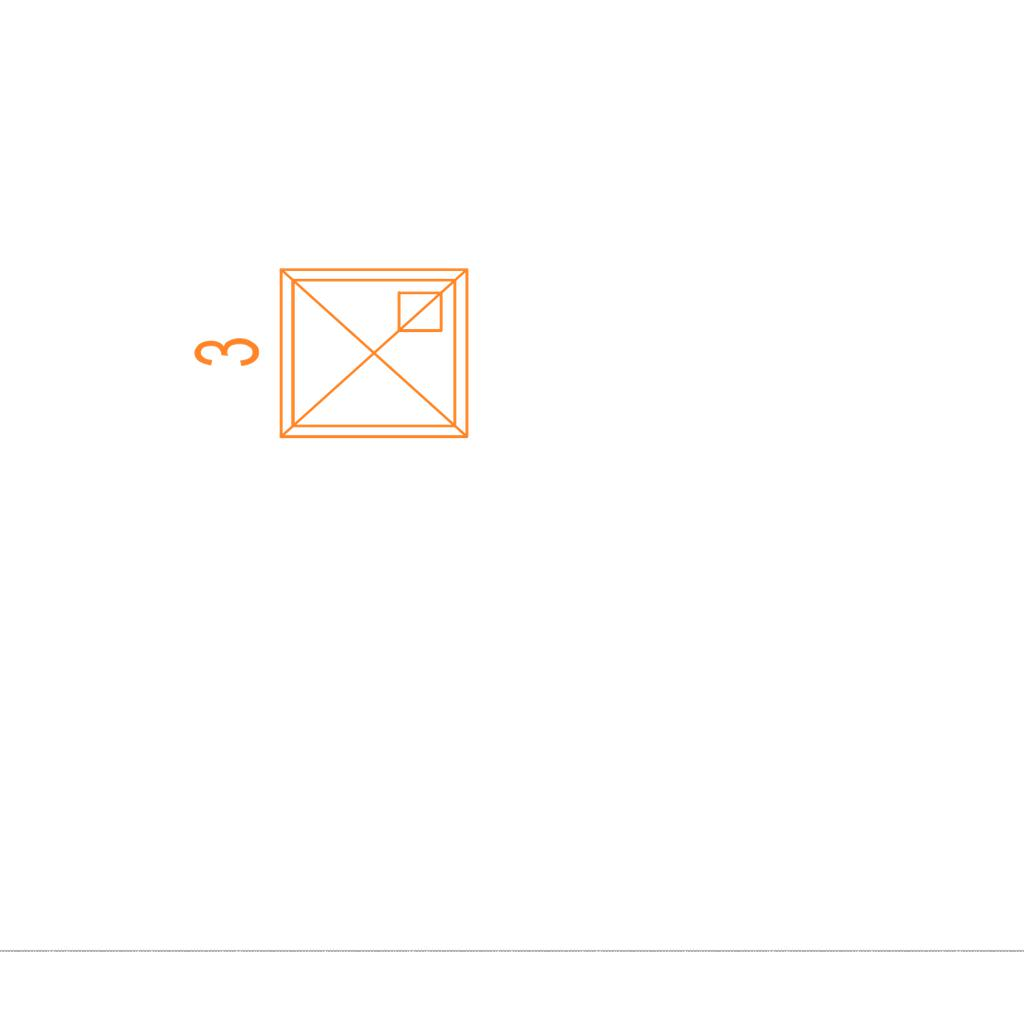Einbaudownlights_LED_Konferenzraeume: (183, 253, 483, 461)
